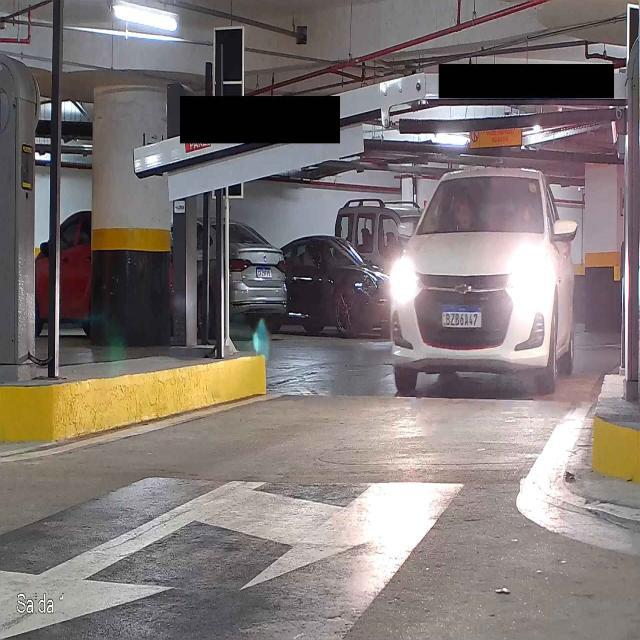mercosul_plate: (440, 305, 483, 329)
